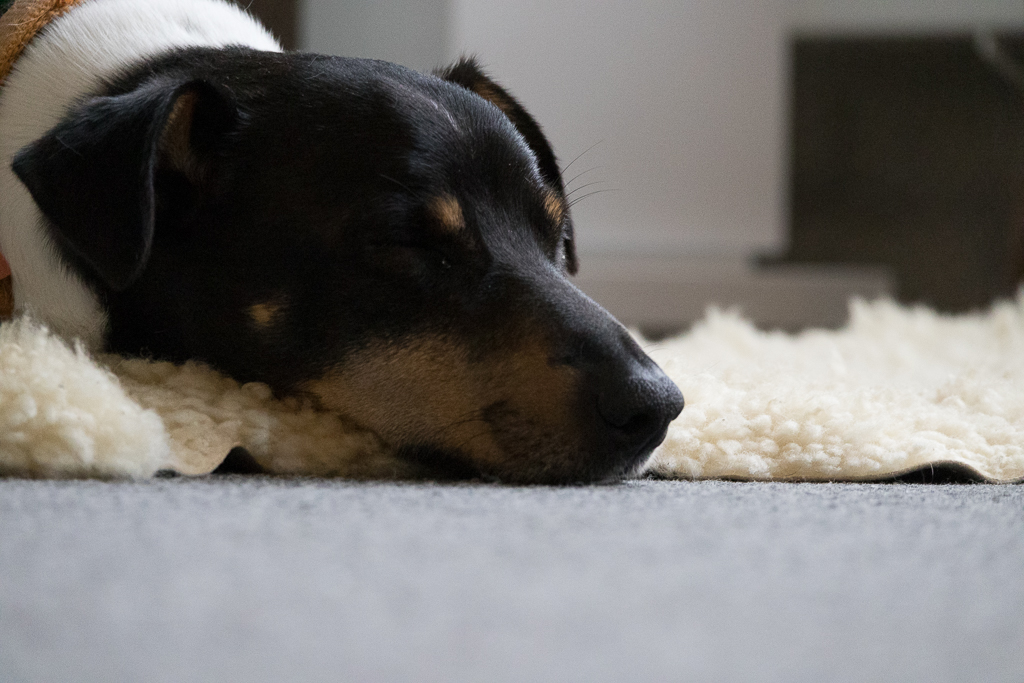Dog: (0, 0, 701, 502)
